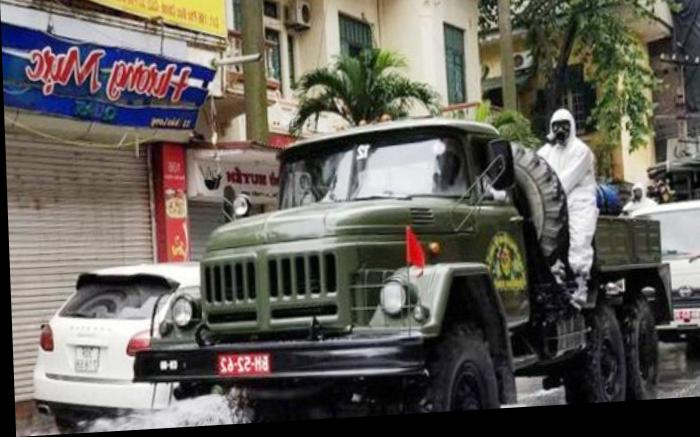License_Plate: (218, 349, 273, 376), (69, 344, 104, 376)
